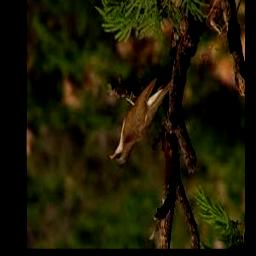Cuckoo: (109, 76, 173, 166)
